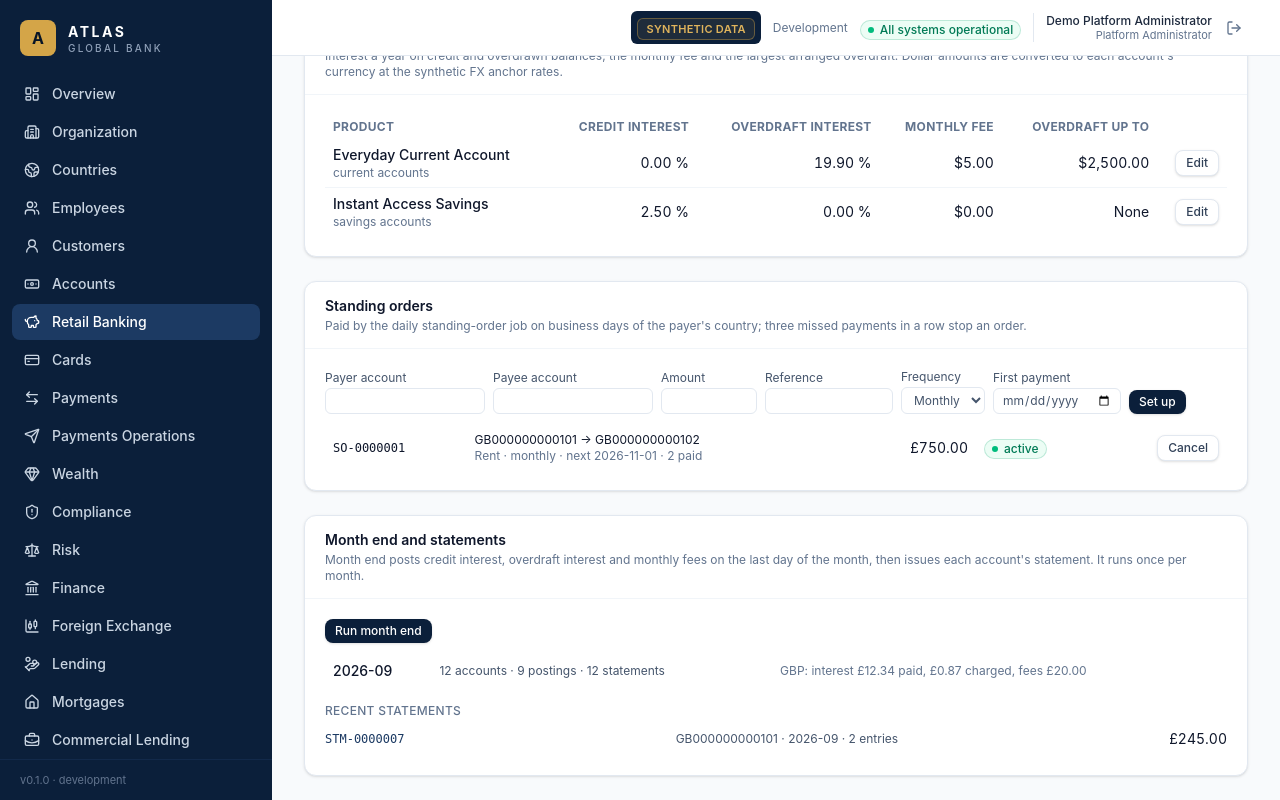
Test case: Retail Banking page › shows products, standing orders, month ends and a statement
(page scrolled)
Expected: the text "Everyday Current Account" is shown, [333,146,510,163]
Expected: the text "19.90 %" is shown, [697,139,880,188]
Click the button "STM-0000007" at (365,739), box [325,731,404,747]
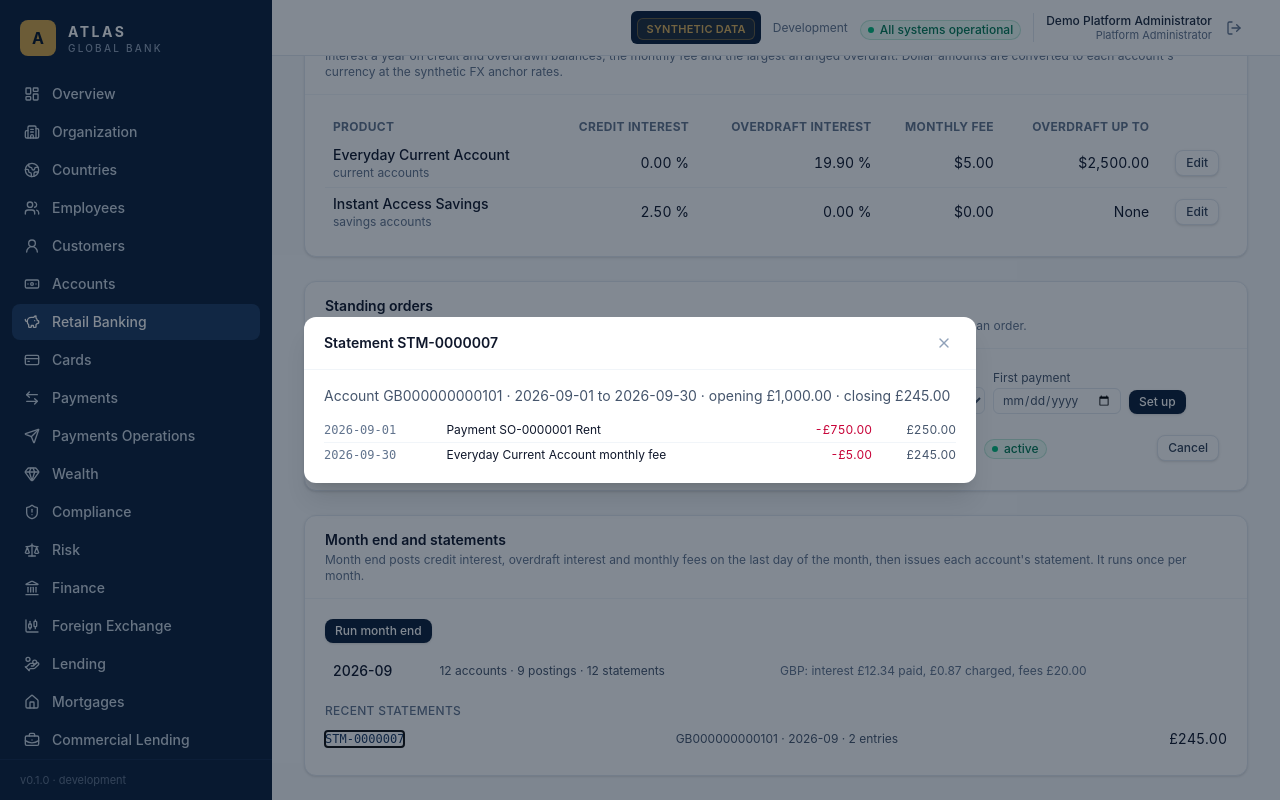
Expected: the text "Everyday Current Account monthly fee" is shown, [446,442,783,467]
